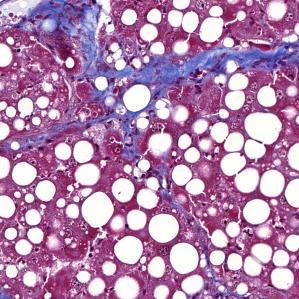fibrosis: (61, 8, 141, 84), (162, 53, 242, 85)
